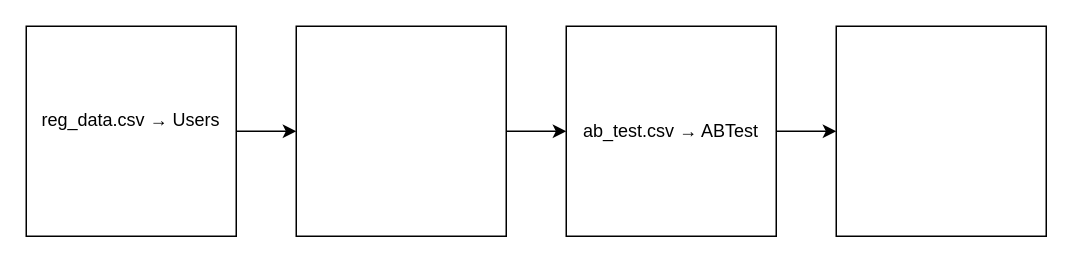
Some shapes in this 1073 by 263 pixel diagram are drawn without their labels. Here are the shapes that lost their labels. From the top down, the box of each, then its label:
(295, 25, 506, 236): auth_data.csv → AuthRaw → Activity
(835, 25, 1046, 236): Date = CALENDAR(MIN RegDate, MAX ActivityDate)
